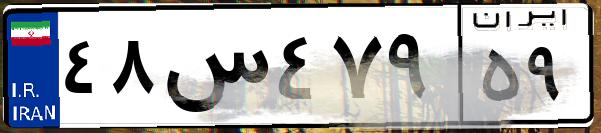4: (270, 28, 330, 110), (57, 26, 110, 100)
5: (475, 38, 525, 113)
7: (330, 28, 385, 110)
8: (110, 28, 158, 98)
9: (385, 28, 445, 110), (525, 38, 570, 115)
س: (158, 20, 270, 120)
